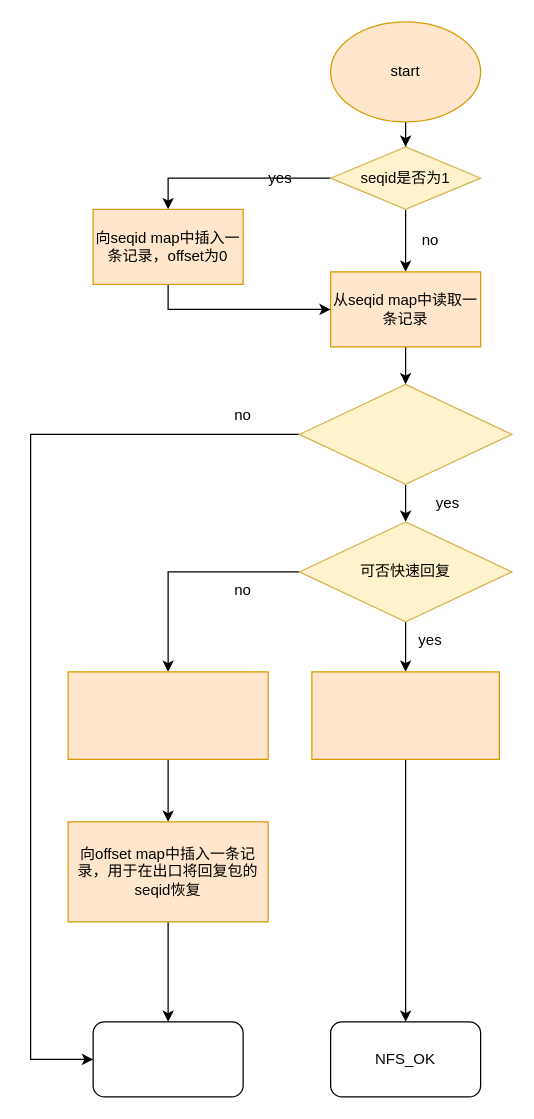
The diagram is 534 pixels wide and 1119 high, and some of its shapes have lost their labels. The centre of each missing label's shape, as x and y in pixels:
"NFS_ERR" goes at point (167, 1059).
"seqid map中对应记录的offset加一，seqid不变" goes at point (405, 715).
"seqid+offset是否等于包中的seqid" goes at point (405, 433).
"修改包中的seqid字段为map中的seqid，且对应记录的seqid加一，offset不变" goes at point (167, 715).
